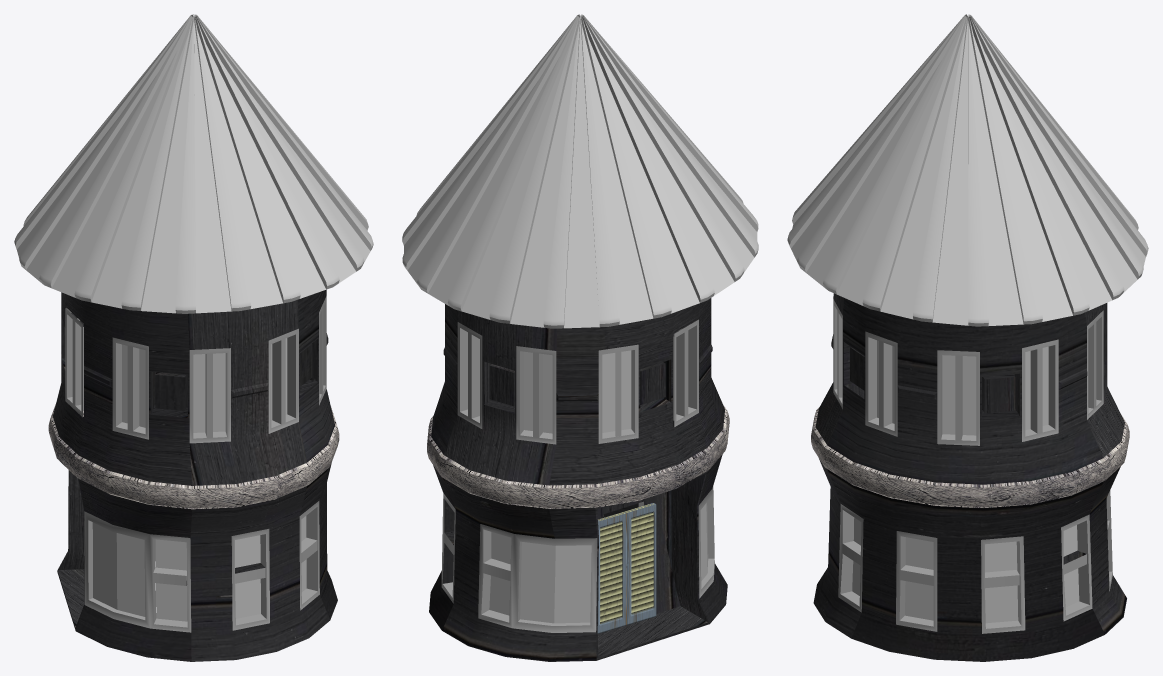
File: ucgen_ev.fbx
3 views of the same model, side by side, from view 1: azimuth 30°, elevation 25°; view 2: azimuth 150°, elevation 25°; view 3: azimuth 270°, elevation 25° (orthographic).
Visible parts, largest first — view 1: polySurface26, polySurface224, polySurface202, polySurface256, polySurface255, polySurface210, polySurface239, polySurface241, polySurface242, polySurface257, polySurface237, polySurface259 (+3 smaller); view 2: polySurface26, polySurface224, polySurface202, polySurface268, pCube2, polySurface267, polySurface251, polySurface249, polySurface237, polySurface254, polySurface253, polySurface252 (+3 smaller); view 3: polySurface26, polySurface224, polySurface202, polySurface243, polySurface247, polySurface246, polySurface261, polySurface263, polySurface264, polySurface245, polySurface265, polySurface259 (+5 smaller).
Part boxes in pixels (<box>): polySurface26: <box>14,14,373,313</box>; polySurface224: <box>53,289,337,661</box>; polySurface202: <box>48,404,339,509</box>; polySurface256: <box>92,522,187,621</box>; polySurface255: <box>84,511,191,632</box>; polySurface210: <box>268,328,298,433</box>; polySurface239: <box>112,337,148,439</box>; polySurface241: <box>189,348,230,443</box>; polySurface242: <box>193,353,225,432</box>; polySurface257: <box>231,529,269,630</box>; polySurface237: <box>65,308,83,417</box>; polySurface259: <box>299,501,319,610</box>; polySurface26: <box>402,14,758,328</box>; polySurface224: <box>429,298,727,661</box>; polySurface202: <box>427,405,729,508</box>; polySurface268: <box>489,532,591,623</box>; pCube2: <box>597,503,656,633</box>; polySurface267: <box>478,524,597,632</box>; polySurface251: <box>516,346,556,444</box>; polySurface249: <box>457,322,482,428</box>; polySurface237: <box>673,319,698,426</box>; polySurface254: <box>598,344,638,443</box>; polySurface253: <box>602,350,631,432</box>; polySurface252: <box>524,351,552,433</box>; polySurface26: <box>787,14,1148,326</box>; polySurface224: <box>813,293,1126,661</box>; polySurface202: <box>811,407,1129,507</box>; polySurface243: <box>865,331,897,436</box>; polySurface247: <box>1022,339,1058,441</box>; polySurface246: <box>942,355,976,435</box>; polySurface261: <box>896,531,937,631</box>; polySurface263: <box>981,536,1025,633</box>; polySurface264: <box>985,541,1018,623</box>; polySurface245: <box>937,350,979,445</box>; polySurface265: <box>1061,514,1092,621</box>; polySurface259: <box>838,504,863,612</box>.
Size of the model in its own units: 2.91 by 5.19 by 2.9.
